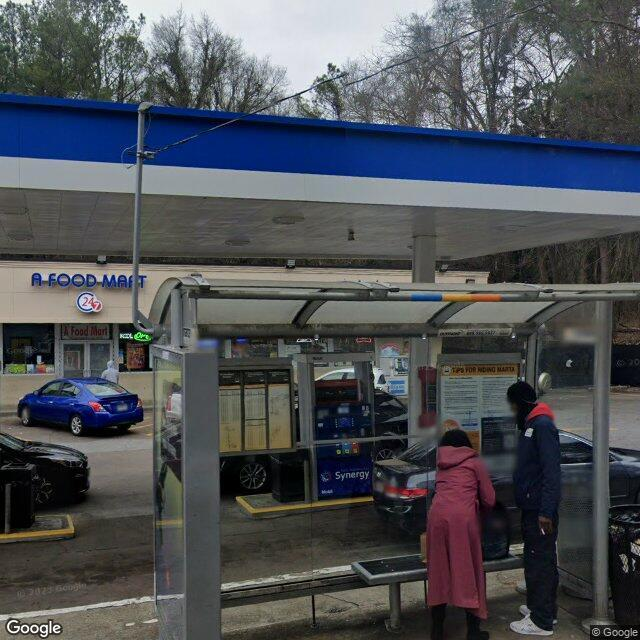seating: (351, 546, 524, 634)
shelter: (143, 275, 640, 640)
trash_can: (606, 504, 640, 630)
